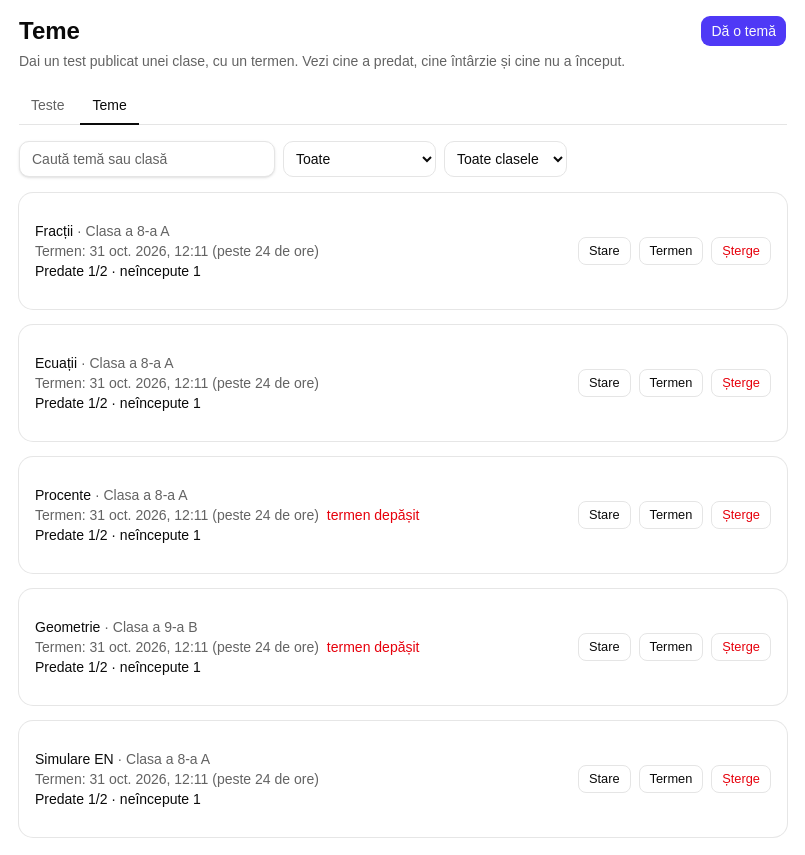
Scenario: AdminAssignmentsPage › searches and filters the homework once there are five
Expected: the text "Procente" is shown, [35,487,91,503]
Select "Cu termen depășit" in the dropdown named "Termen": (360, 159) [283,141,436,177]
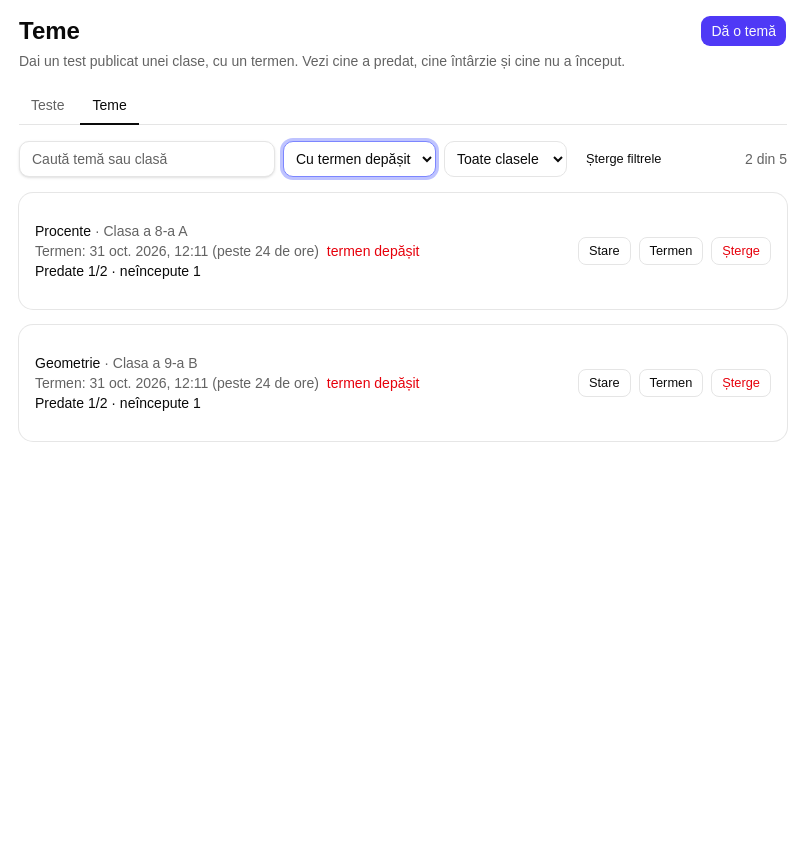
Expected: the number of elements with test id "assignment-row" is 2, [19,209,787,293]; [19,341,787,425]
Select "Clasa a 9-a B" in the dropdown named "Clasa": (506, 159) [444,141,567,177]
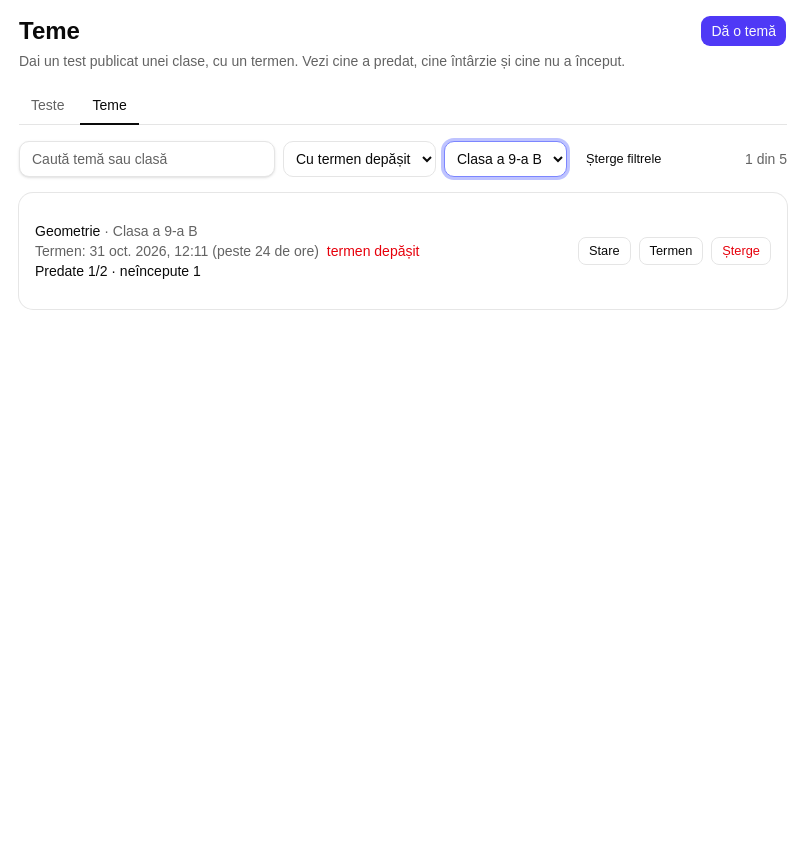
Expected: the number of elements with test id "assignment-row" is 1, [19,209,787,293]
Click the button "Șterge filtrele": (624, 159) [575,145,672,173]
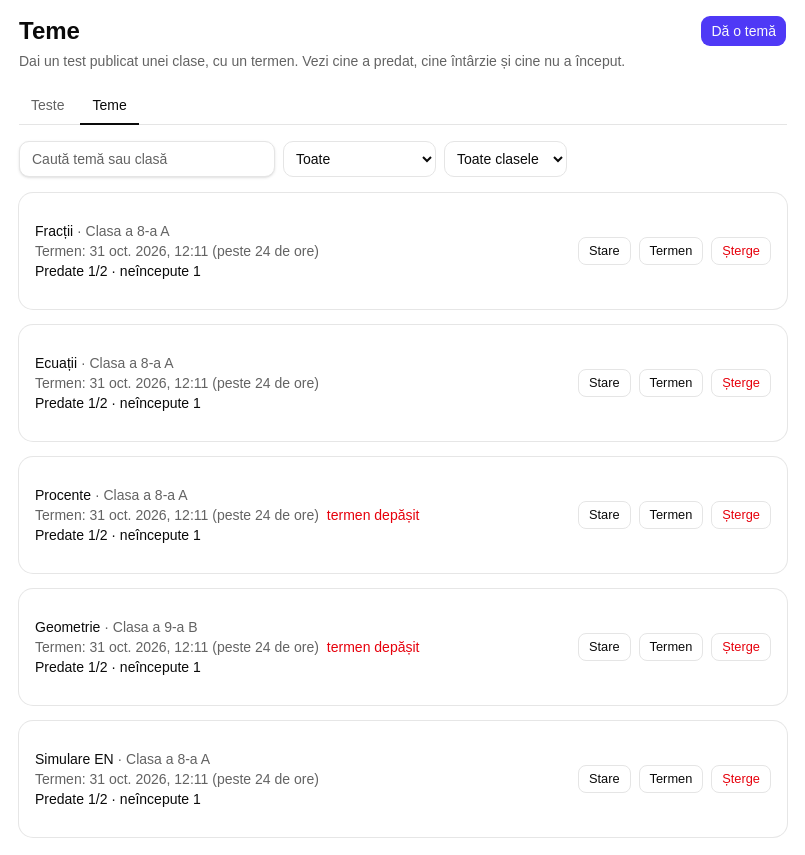
In the search field labelled "Caută temă sau clasă": (147, 159) [19,141,275,177], type "fractii"
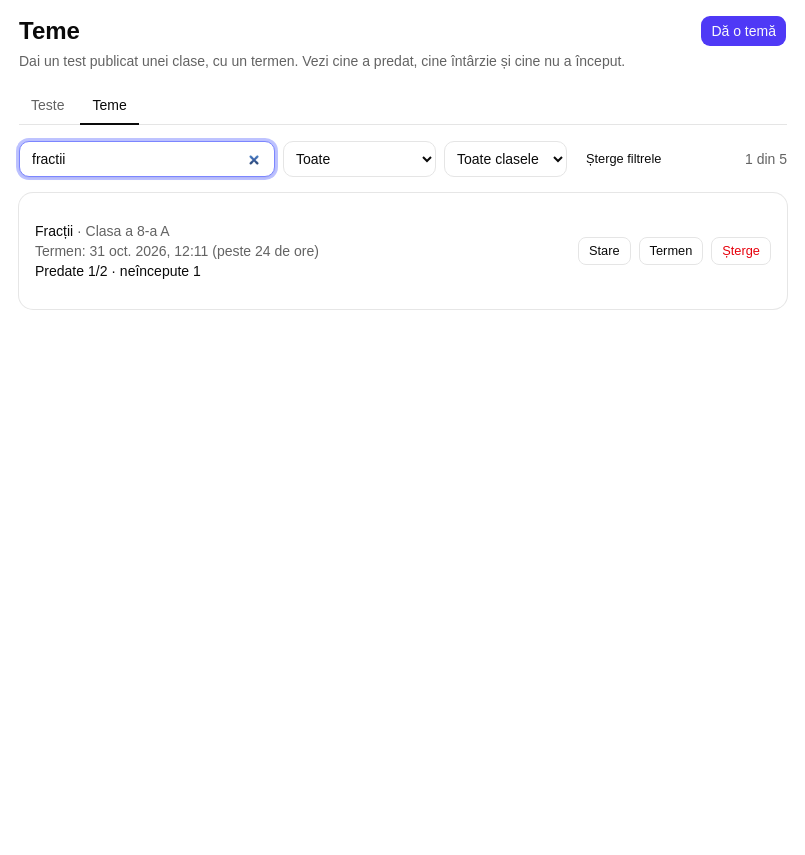
Expected: the number of elements with test id "assignment-row" is 1, [19,209,787,293]
